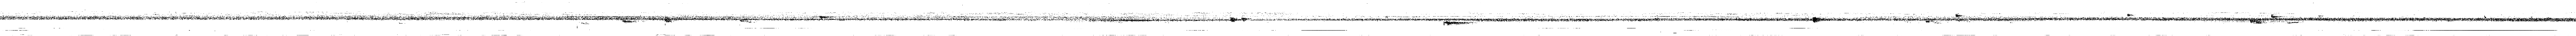meteor: (1442, 21, 1474, 26), (621, 20, 636, 23), (1242, 16, 1250, 21), (1230, 18, 1240, 21), (2270, 15, 2280, 18), (1955, 13, 1963, 16), (2127, 13, 2134, 16)
